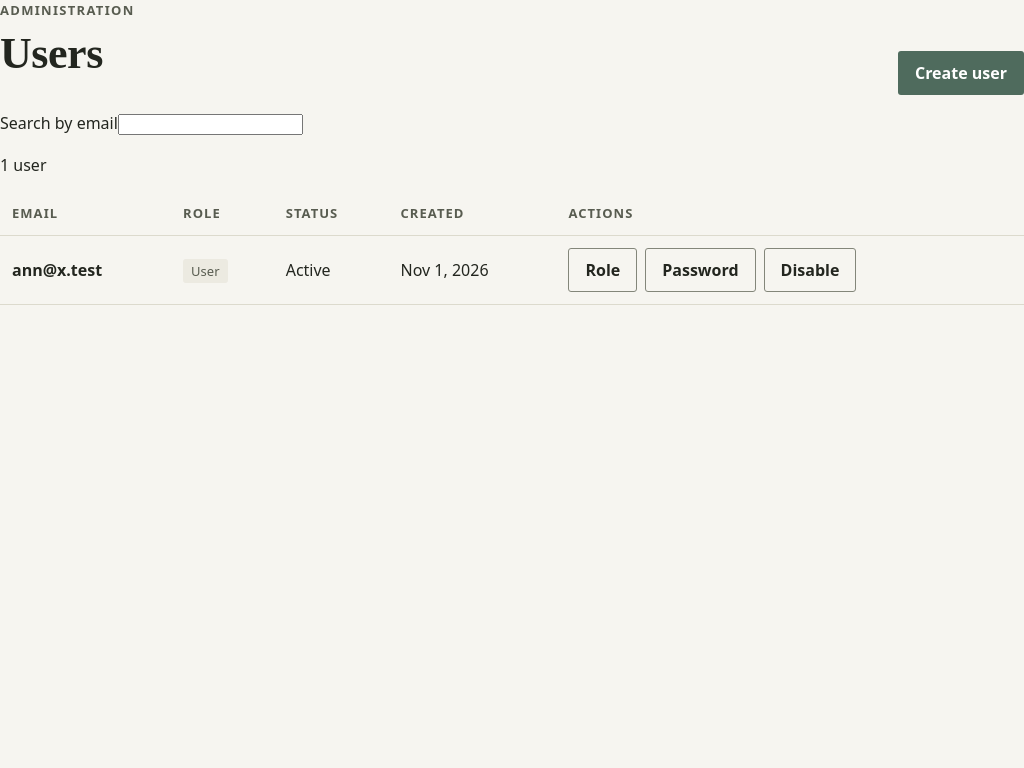
Test: UsersPage › sets a new password and explains a refused one
Click the button with aria-label "Reset password of ann@x.test" at {"x": 700, "y": 270}, box [645, 248, 756, 292]
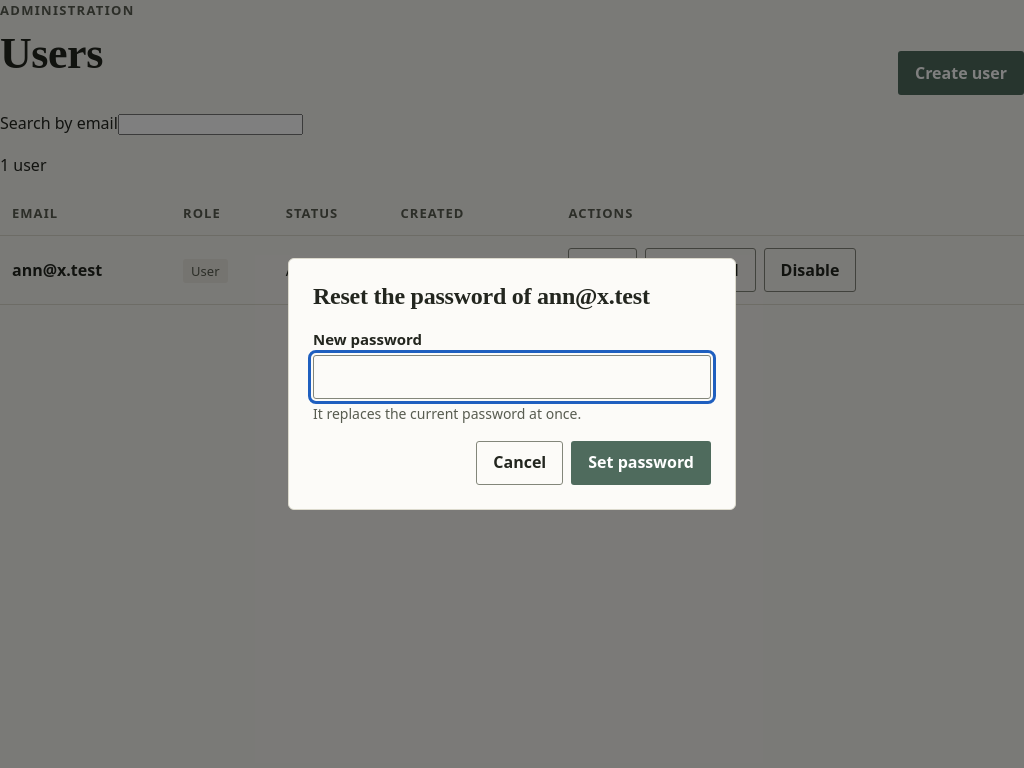
Type "x" into the password field labelled "New password" at {"x": 512, "y": 377}, box [313, 355, 711, 399]
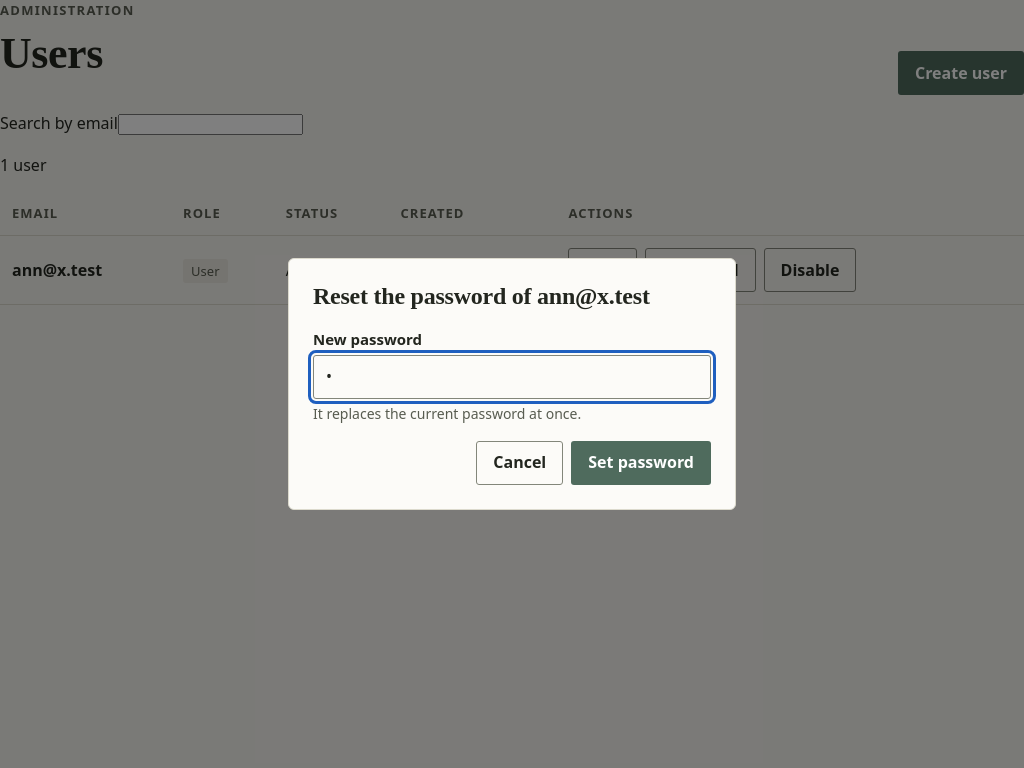
Click the button "Set password" at {"x": 641, "y": 463}, box [571, 441, 711, 485]
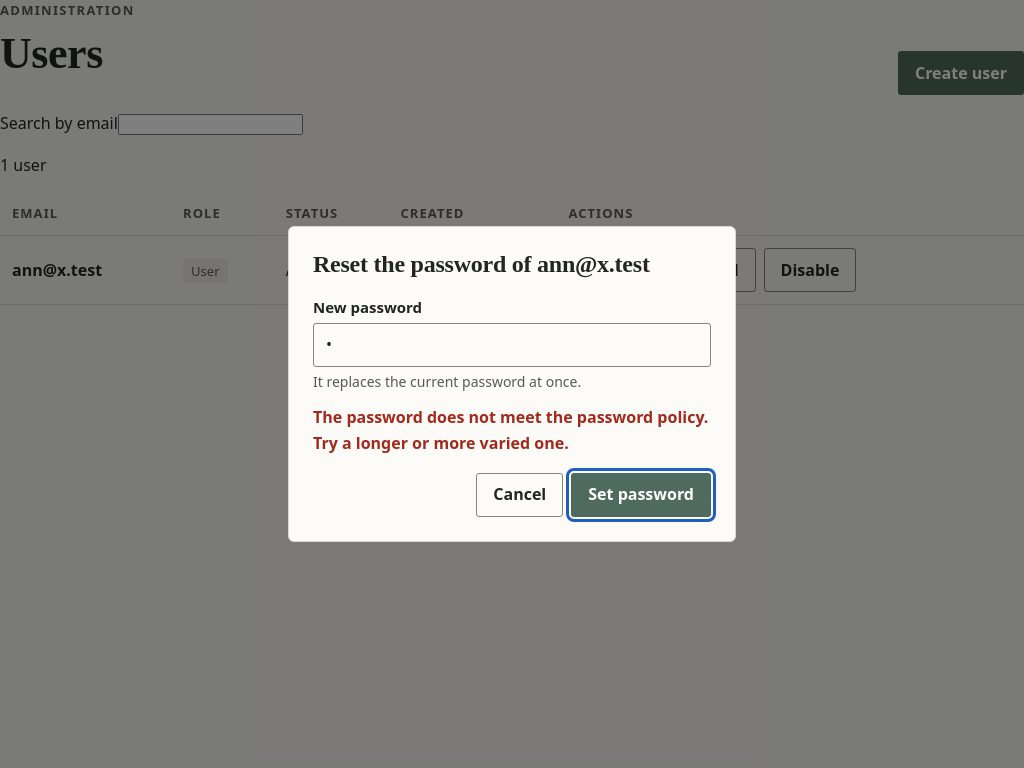
Result: the 2nd message shows "password policy" at [313, 406, 708, 454]
